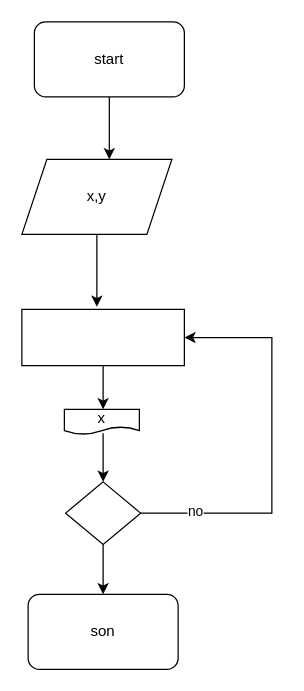
Image size: 304x691. Some labels were removed from this diagram. The shapes that lost their labels are listed below. From the top down, each one's centre as x and y in pixels, then its label:
At point 102,337: "x = x-1".
At point 102,512: "x=y".
